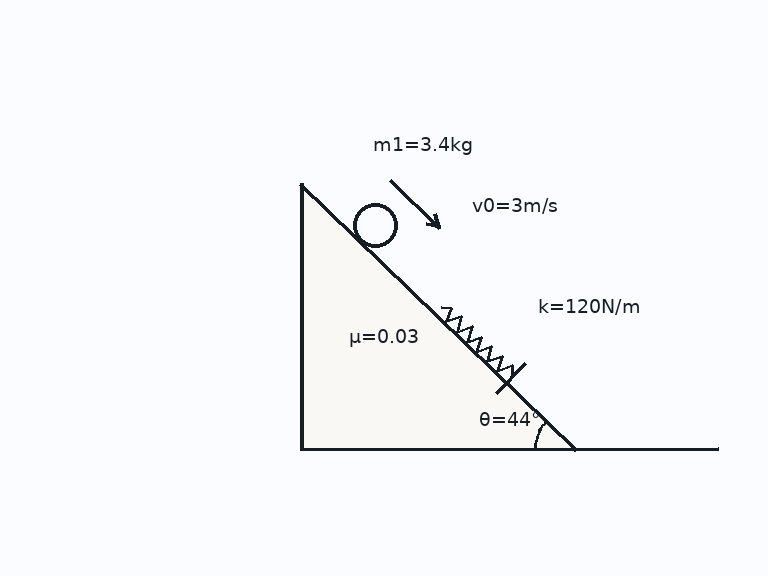ball: (351, 201, 399, 249)
ramp: (297, 181, 577, 451)
spring: (439, 305, 514, 378)
